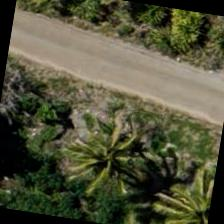Kelapa_Sawit: (48, 107, 151, 210), (132, 171, 215, 223)
